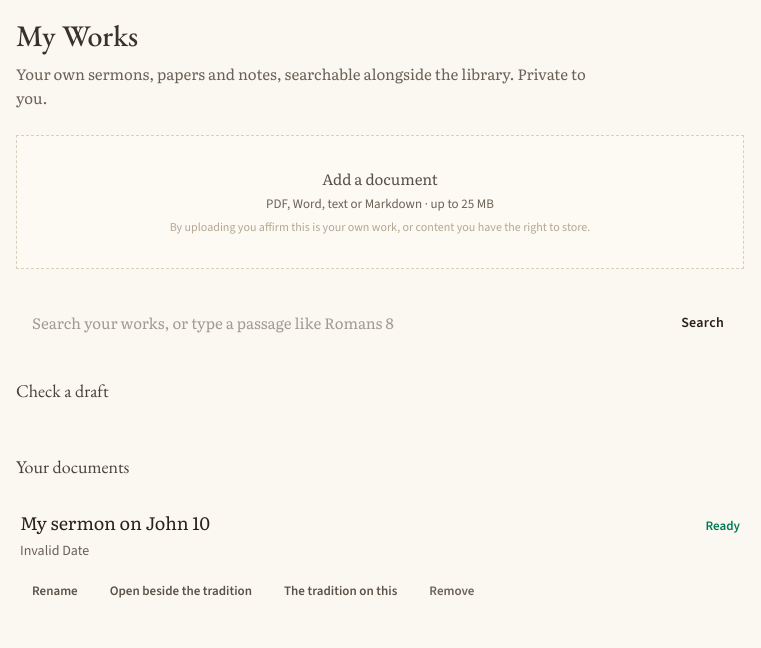
Scenario: My Works — a response the page did not expect › B020: renders a rate-limit error as readable text instead of crashing the page
expect the text "My sermon on John 10" is shown: met, box [20,509,210,536]
Type "grace" into the search field labelled "Search your works" at (335, 323), box [16,301,653,345]
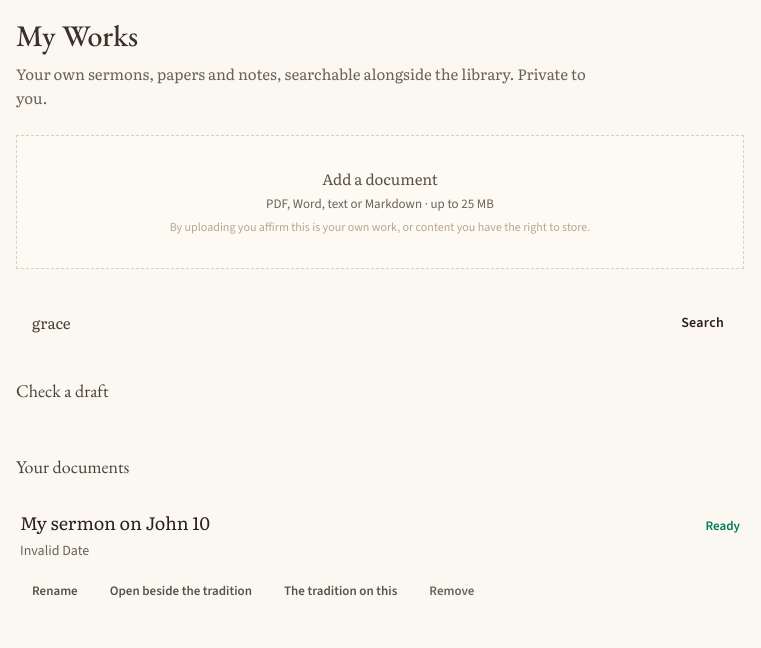
Click the button "Search" at (703, 323), box [661,301,744,345]
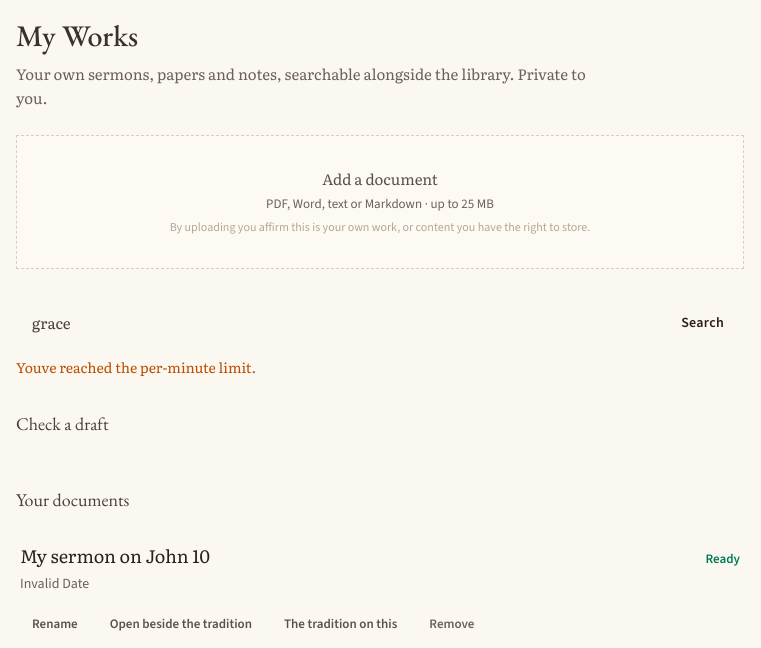
expect the heading "My Works" is shown: met, box [16,16,138,55]
expect the text "Youve reached the per-minute limit." is shown: met, box [16,357,256,377]
